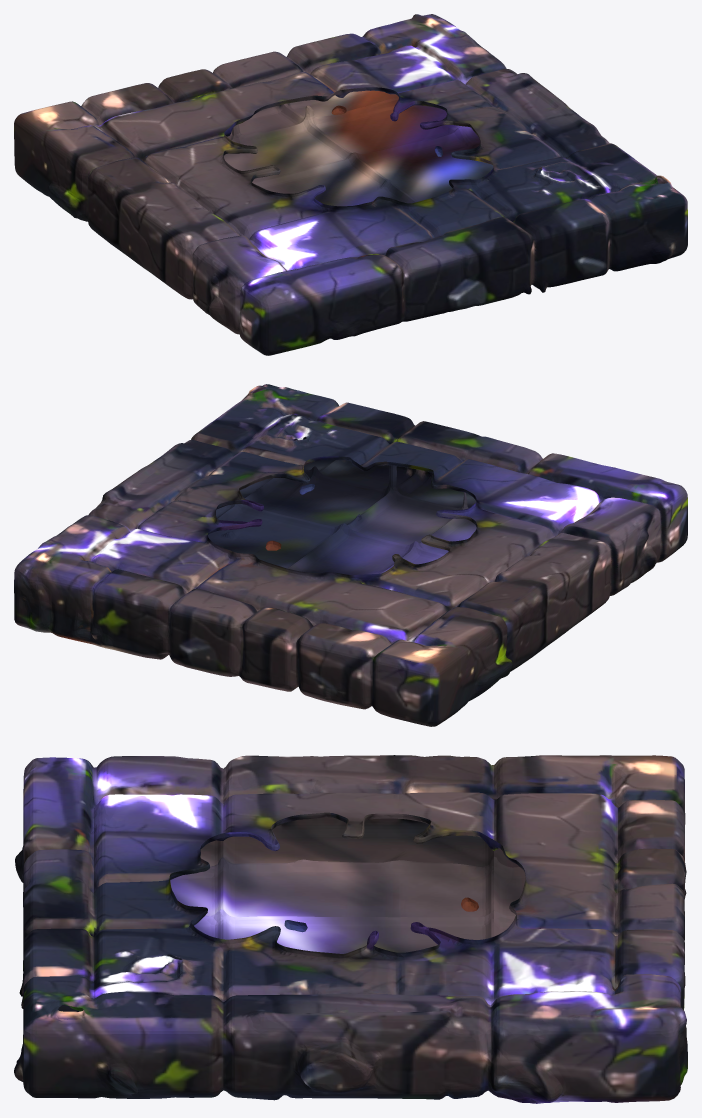
The model's file is idol_perun_plate.glb.
3 renders of one model, top to bottom at view 1: azimuth 30°, elevation 25°; view 2: azimuth 150°, elevation 25°; view 3: azimuth 270°, elevation 25°, orthographic. The views are drawn at different scales.
Visible parts, largest first — view 1: idol_perun_plate; view 2: idol_perun_plate; view 3: idol_perun_plate.
Part boxes in pixels (bbox=[...]): idol_perun_plate: bbox=[14, 14, 687, 355]; idol_perun_plate: bbox=[14, 384, 687, 726]; idol_perun_plate: bbox=[14, 755, 687, 1103].
Size of the model in its own units: 2 by 0.2898 by 1.98.
1 material, 1 textured.
